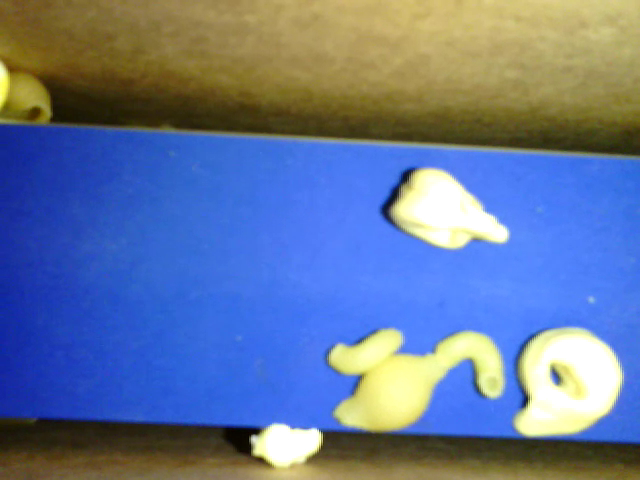elbow: (433, 327, 506, 400), (328, 324, 406, 377)
shell: (331, 348, 438, 434), (1, 68, 56, 131)
tortellini: (513, 327, 625, 434), (390, 162, 508, 251)
